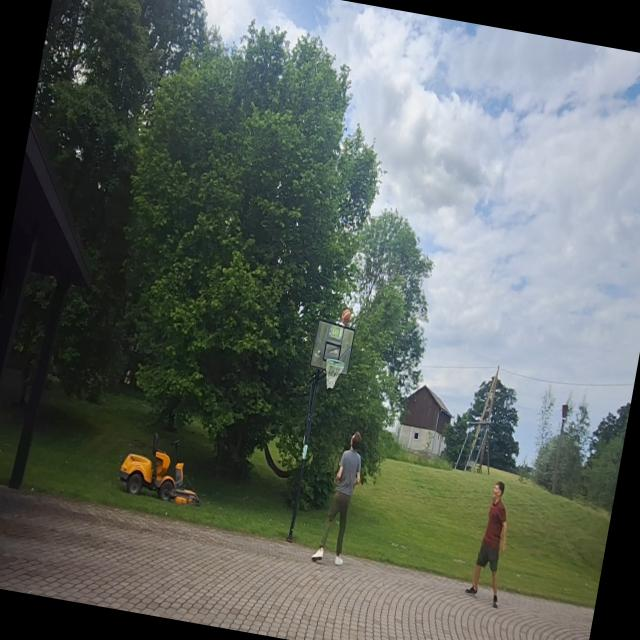ball: (337, 304, 355, 328)
hoop: (317, 352, 348, 392)
player: (308, 422, 374, 567), (462, 472, 524, 609)
